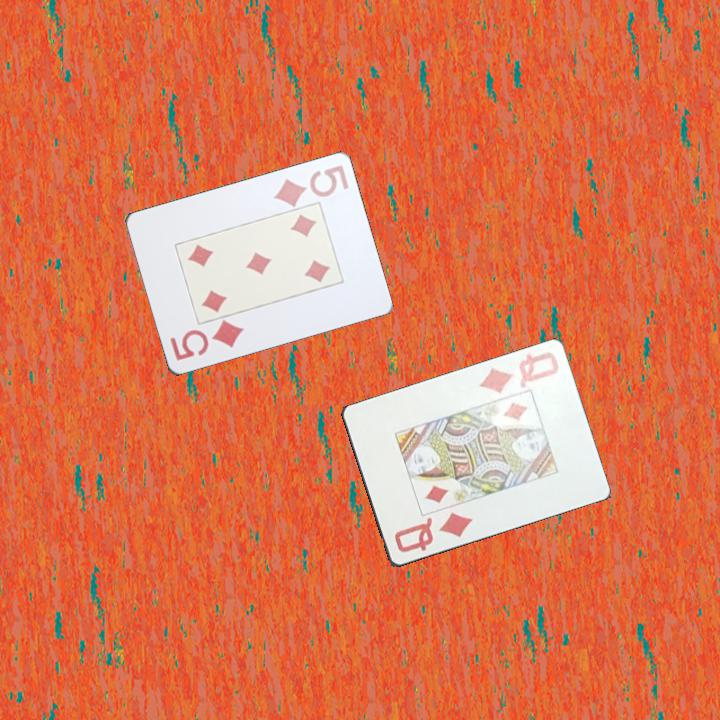5d: (270, 162, 352, 210), (166, 317, 247, 364)
Qd: (476, 349, 562, 397), (391, 509, 475, 556)
